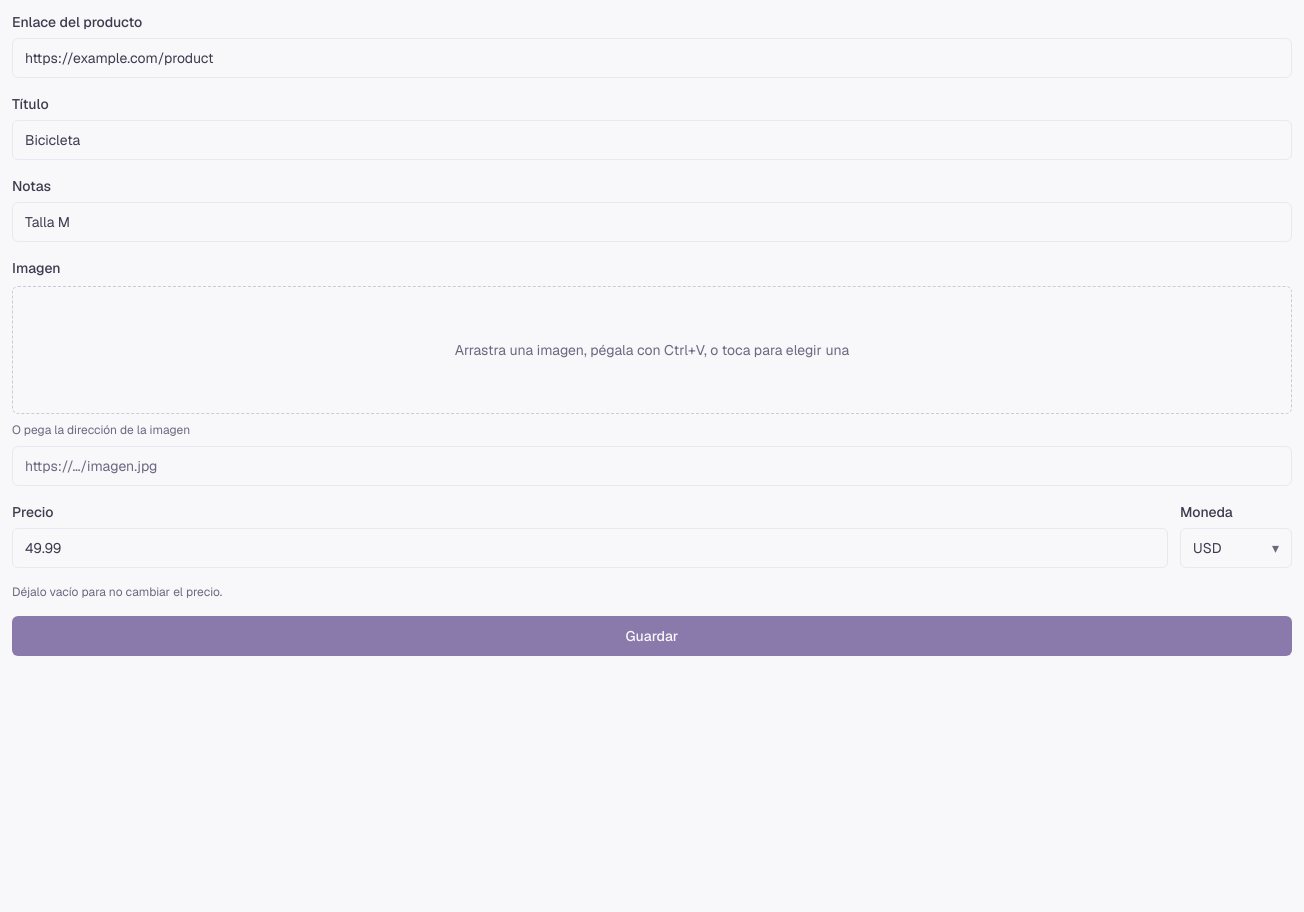
EditItemForm › Save button validity gating (T082) › re-enables once a cleared title is filled back in
Check: the button "Guardar" is enabled, box [12,616,1292,656]
Clear the field labelled "Título". click: (652, 140)
box: [12,120,1292,160]
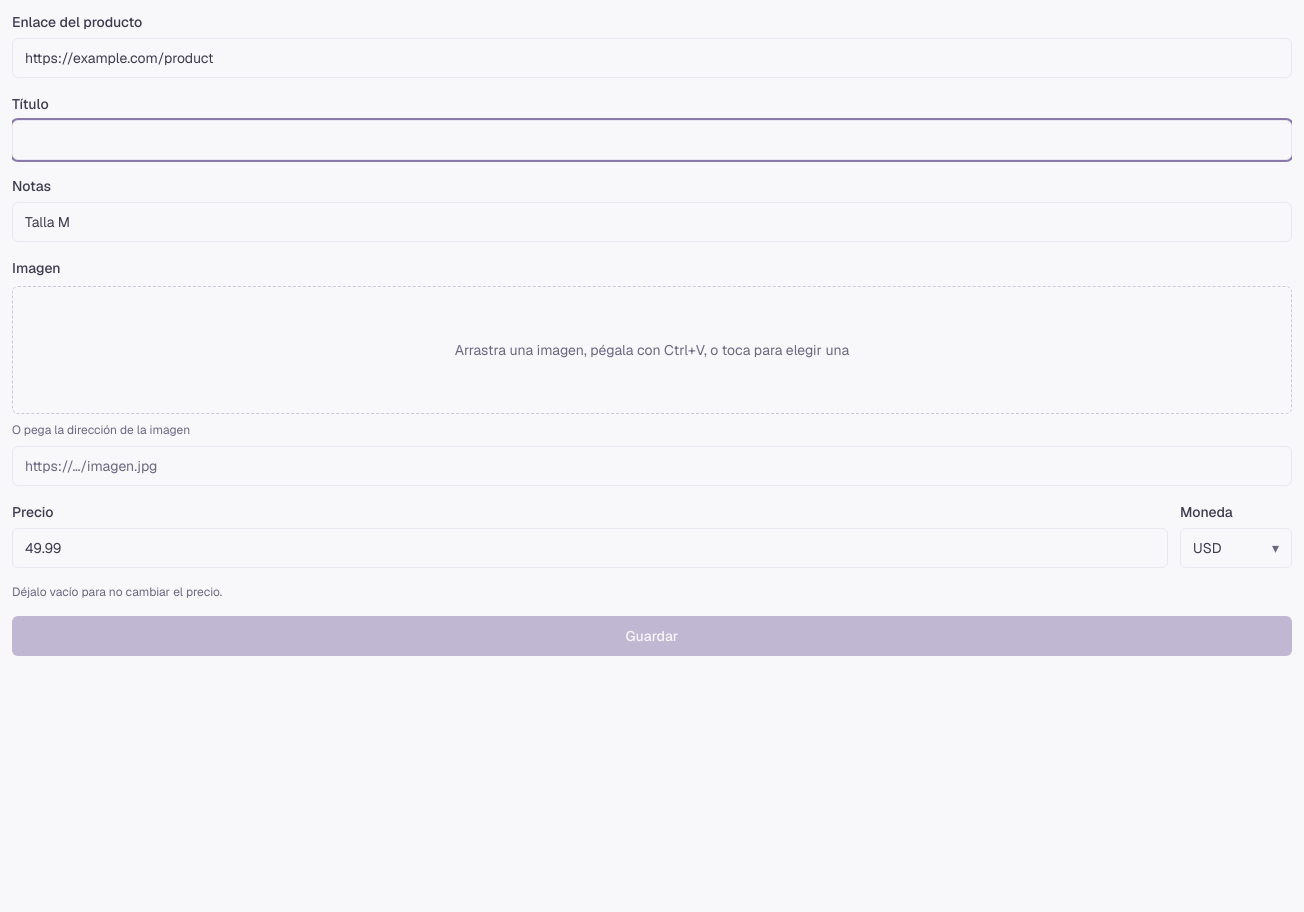
Check: the button "Guardar" is disabled, box [12,616,1292,656]
Type "Bicicleta nueva" into the field labelled "Título". click: (652, 140)
box: [12,120,1292,160]
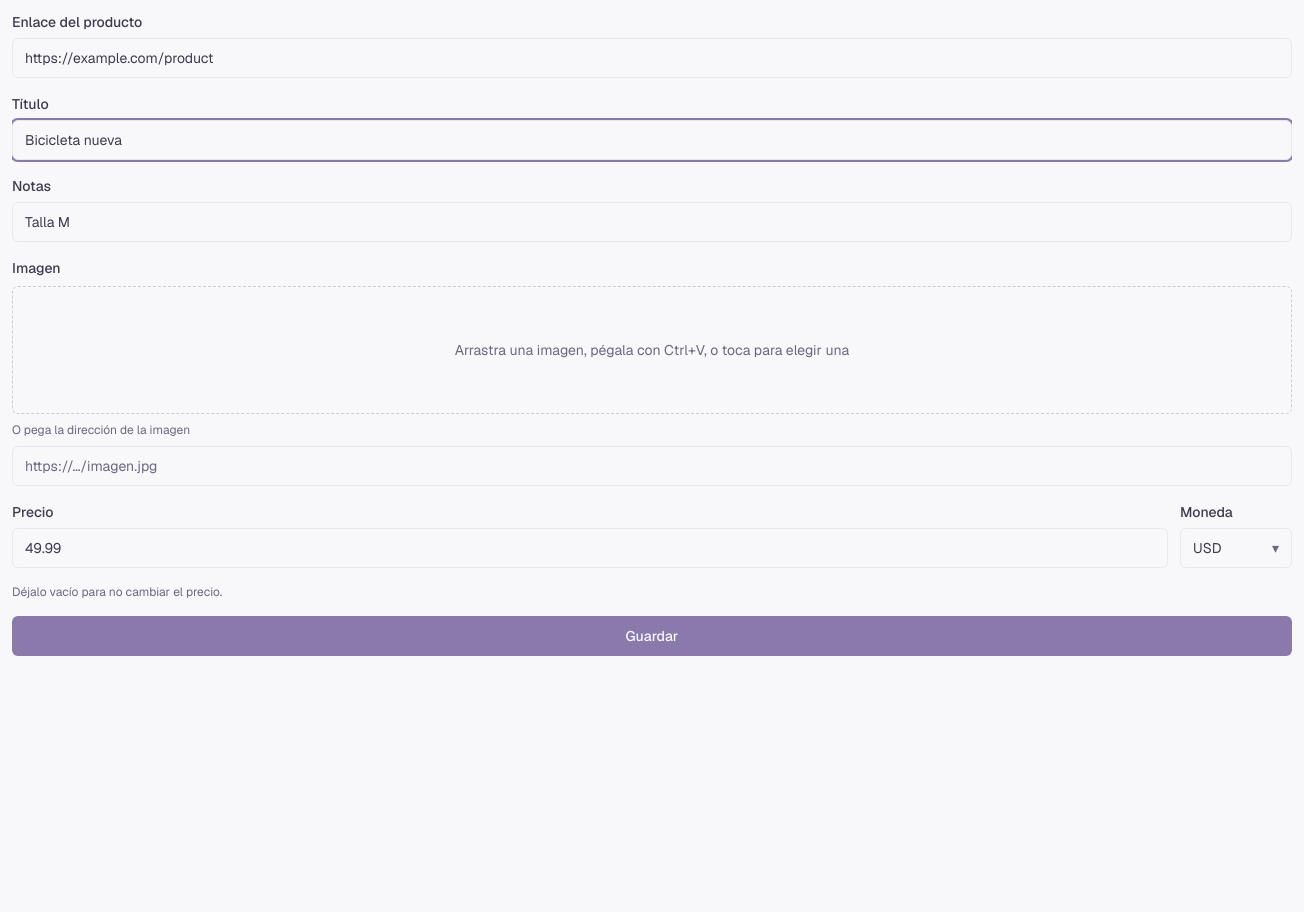
Check: the button "Guardar" is enabled, box [12,616,1292,656]
